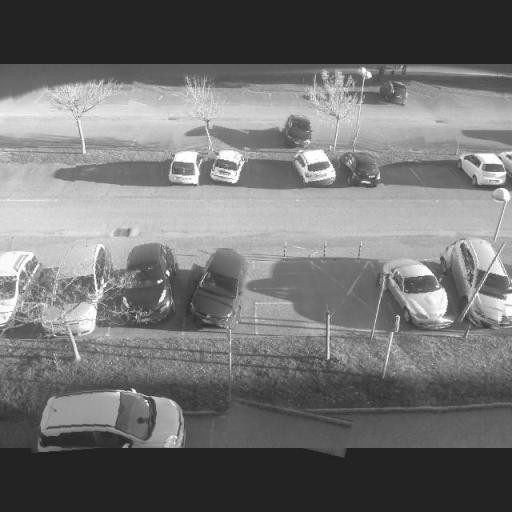busy: (28, 386, 183, 451), (101, 242, 184, 326), (441, 234, 512, 327), (380, 254, 457, 332), (182, 246, 248, 327), (41, 245, 116, 305), (293, 146, 341, 188), (454, 154, 509, 188), (205, 148, 248, 186), (337, 152, 381, 188), (162, 152, 204, 186), (280, 115, 320, 149), (380, 79, 409, 107)
free: (226, 400, 352, 452), (432, 402, 512, 442), (27, 157, 75, 197), (72, 160, 120, 190), (168, 127, 213, 153), (246, 161, 288, 188), (128, 83, 164, 114), (11, 80, 50, 108), (208, 125, 248, 152), (92, 126, 138, 149), (406, 82, 439, 112), (156, 88, 194, 114), (131, 127, 173, 150), (350, 126, 386, 152), (386, 128, 425, 152), (240, 84, 270, 113), (118, 164, 157, 185), (268, 88, 302, 112), (440, 91, 474, 114), (248, 128, 282, 150), (424, 130, 458, 152), (475, 90, 504, 113), (418, 168, 450, 186), (383, 169, 411, 185)
